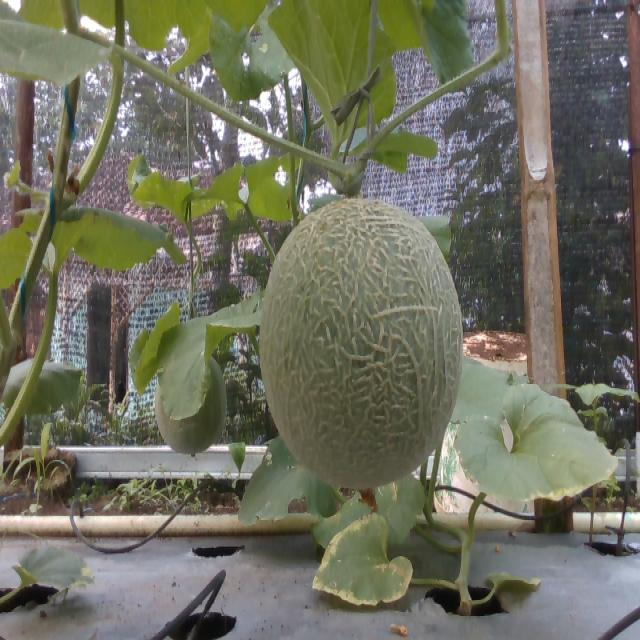melon: (261, 199, 463, 489)
